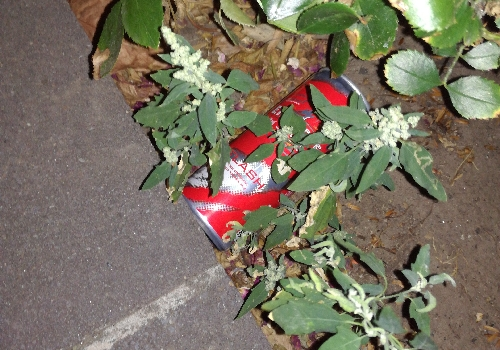trash: (150, 60, 379, 258)
